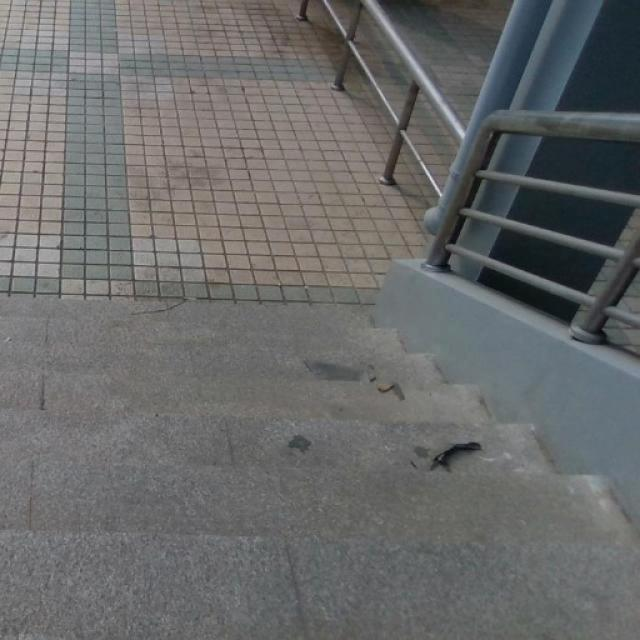stair: (0, 302, 532, 610)
